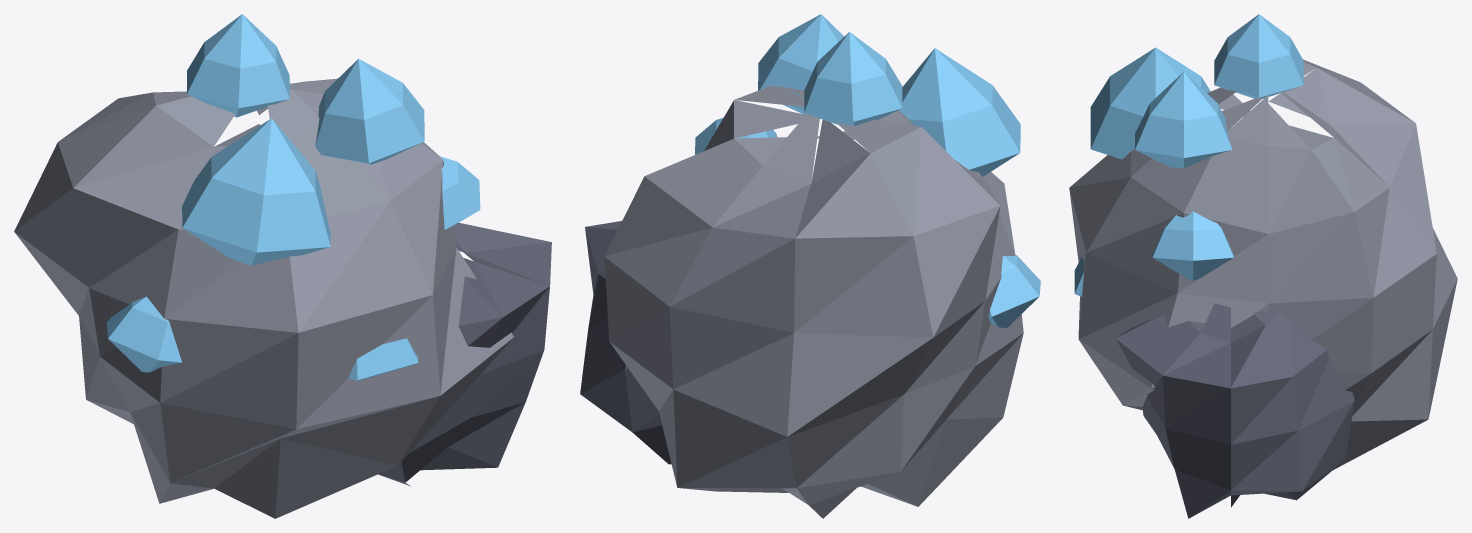
The model's file is game-ui-icon-library-ore-chunk-348867e4.glb.
3 renders of one model, left to right at view 1: azimuth 30°, elevation 25°; view 2: azimuth 150°, elevation 25°; view 3: azimuth 270°, elevation 25°, orthographic. The views are drawn at different scales.
Parts seen in each view (by area): view 1: ore-chunk; view 2: ore-chunk; view 3: ore-chunk.
Boxes of the visible parts, box(x1,y1,x2,y2) form: ore-chunk: box(14, 14, 551, 518); ore-chunk: box(580, 14, 1040, 518); ore-chunk: box(1069, 14, 1457, 518).
Size of the model in its own units: 0.8843 by 0.94 by 0.7446.
